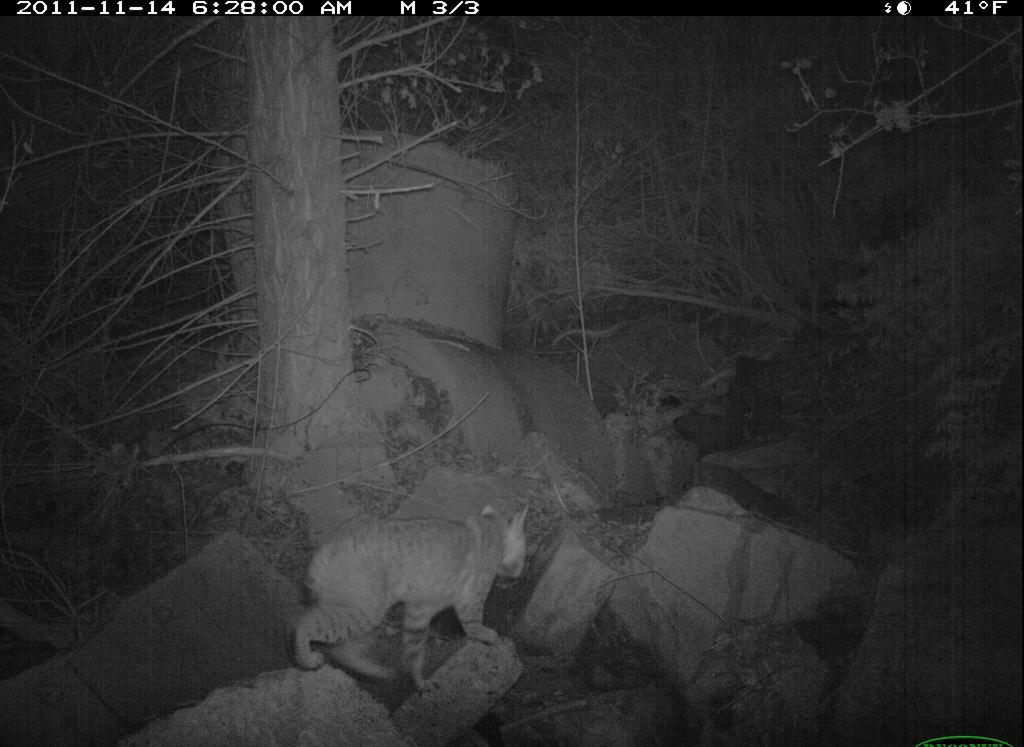bobcat: (278, 491, 555, 702)
